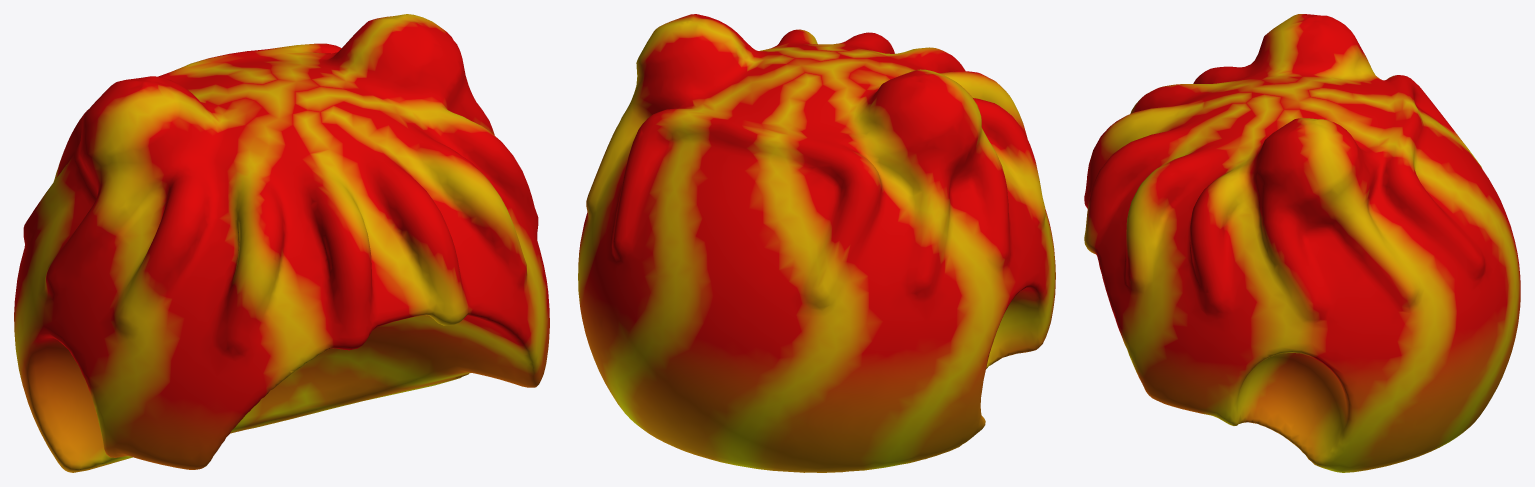
The model's file is double-buns.glb.
3 views of the same model, side by side, from view 1: azimuth 30°, elevation 25°; view 2: azimuth 150°, elevation 25°; view 3: azimuth 270°, elevation 25° (orthographic). The views are drawn at different scales.
Parts seen in each view (by area): view 1: part; view 2: part; view 3: part.
Part boxes in pixels (x1,y1,x2,y2): part: (14,14,549,472); part: (578,14,1055,472); part: (1084,14,1520,472).
Bounding box in the file's own units: 2.08 × 1.72 × 2.06.
